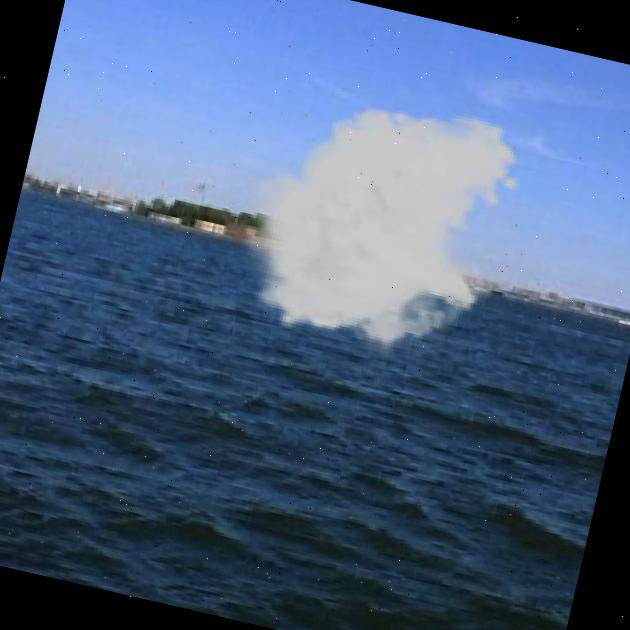smoke: (210, 66, 534, 386)
